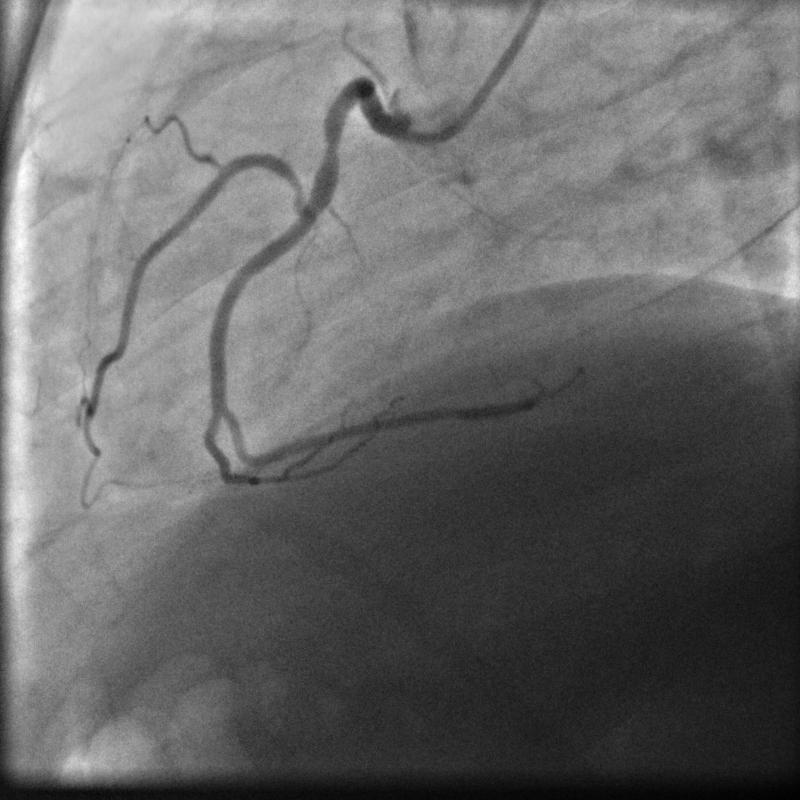Stenosis: (318, 124, 343, 163)
